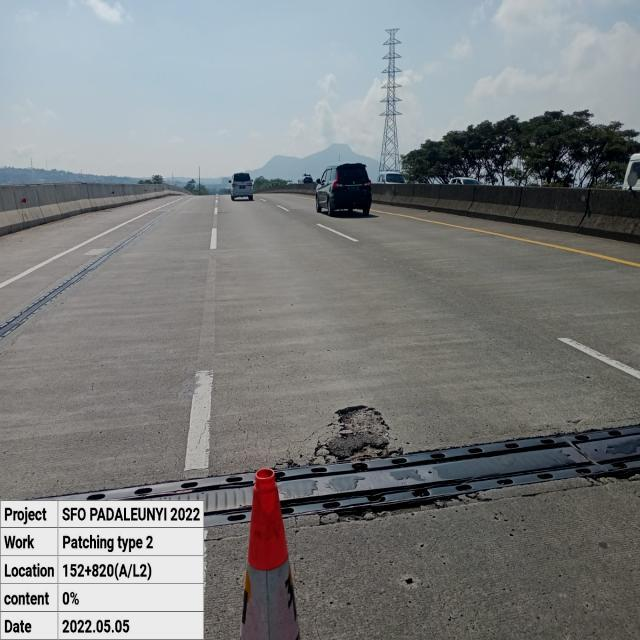Buraco: (304, 403, 406, 469)
